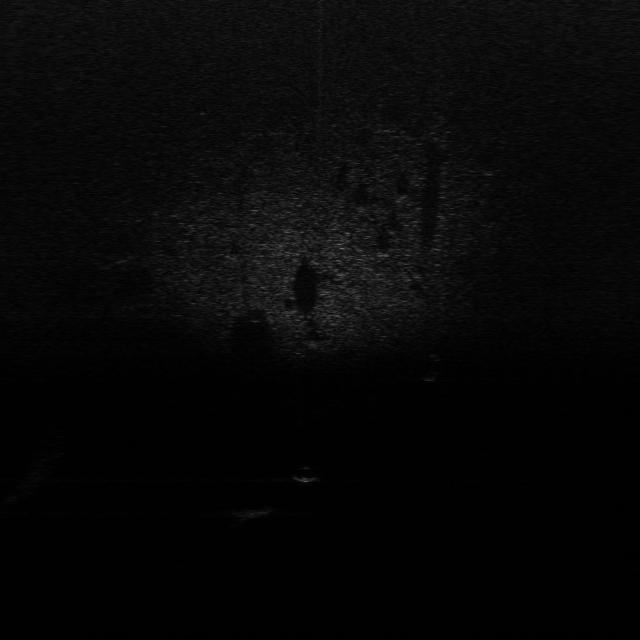ball: (287, 464, 319, 485)
square cage: (232, 502, 276, 521)
tyre: (420, 351, 444, 383)
